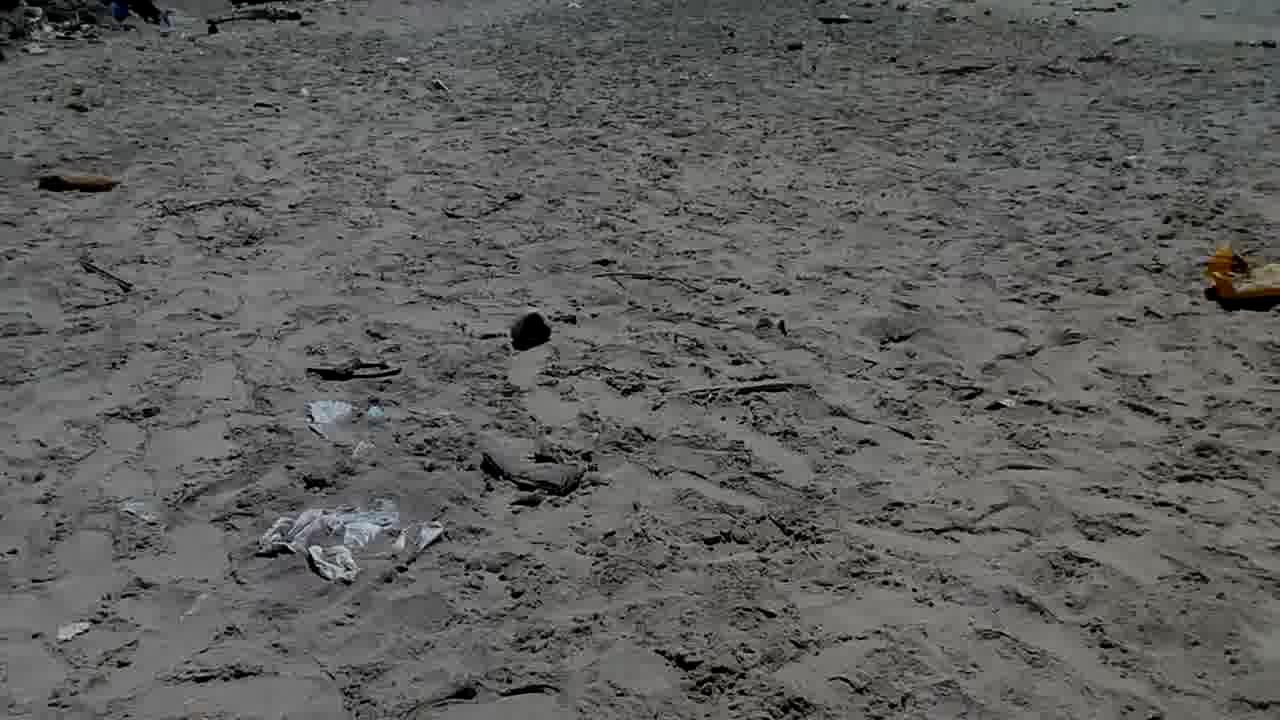large collection of objects: (1, 0, 167, 67), (484, 441, 584, 511), (308, 399, 386, 468)
obj: (263, 504, 442, 585), (1212, 242, 1279, 309), (510, 312, 551, 352), (40, 175, 116, 194)
